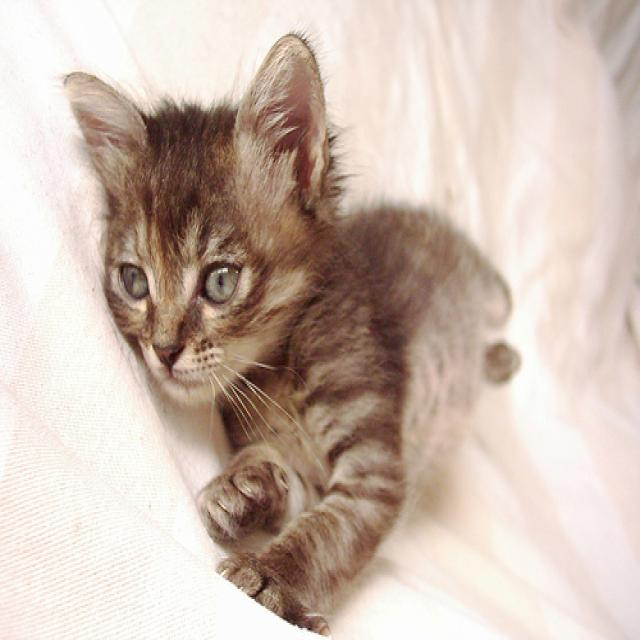cat: (61, 28, 523, 638)
